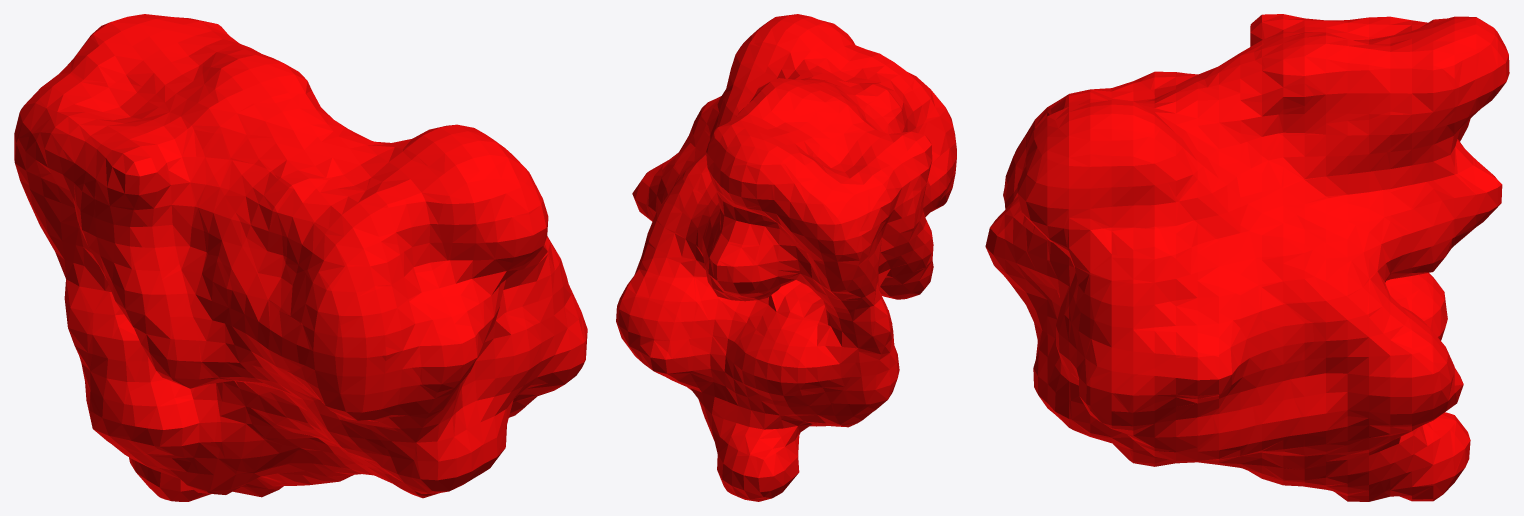
The model's file is kgtP_coarse.dae.
The picture shows the model from 3 angles, left to right: view 1: azimuth 30°, elevation 25°; view 2: azimuth 150°, elevation 25°; view 3: azimuth 270°, elevation 25°; orthographic projection. The views are drawn at different scales.
Parts seen in each view (by area): view 1: kgtP; view 2: kgtP; view 3: kgtP.
Boxes of the visible parts, left/top/right/bottom form: kgtP: left=14, top=14, right=587, bottom=501; kgtP: left=616, top=14, right=956, bottom=501; kgtP: left=985, top=14, right=1509, bottom=501.
Bounding box in the file's own units: 58.28 × 63.49 × 65.44.
